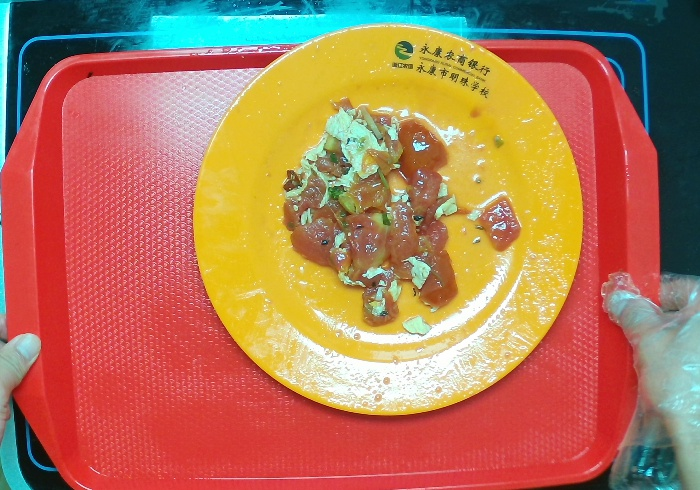YKMZ-Ju_Se_Mian_Pan: (189, 21, 584, 417)
